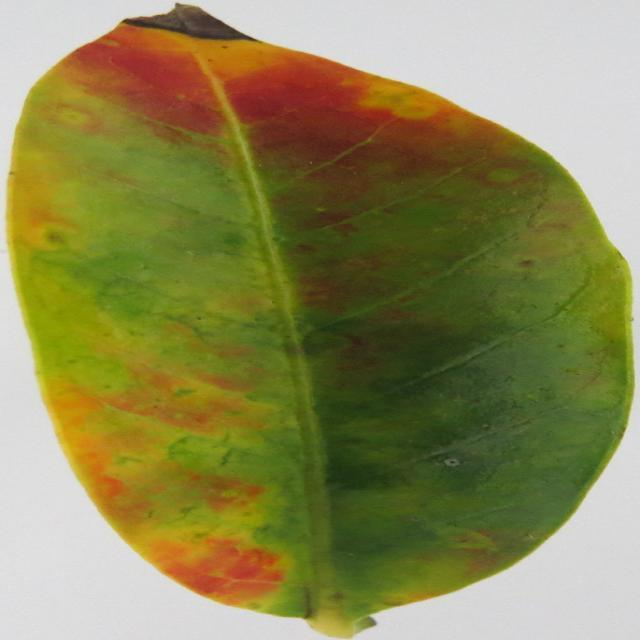DeficienciaNutricional-Fosforo: (9, 5, 629, 638)
